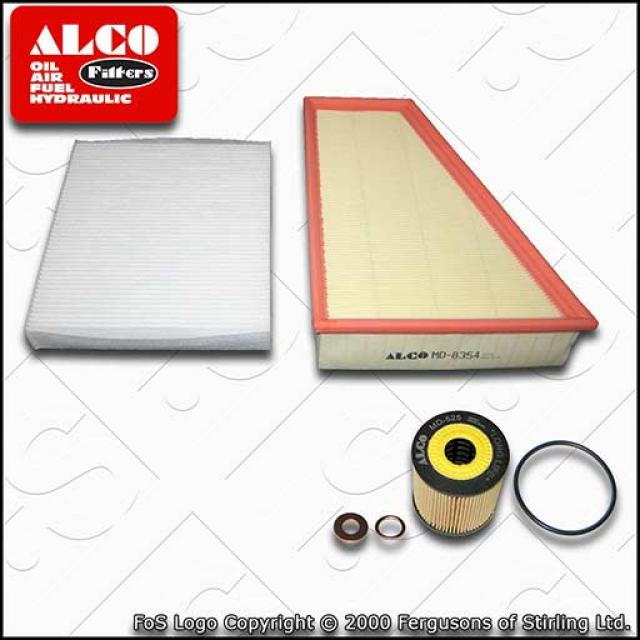air_filter: (297, 91, 601, 373), (19, 138, 279, 357)
oil_filter: (414, 417, 512, 540)
